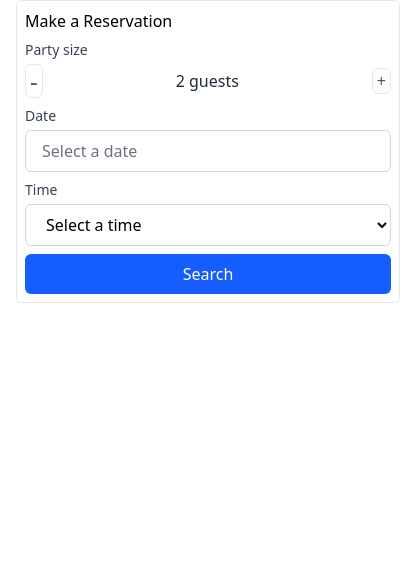
Test: MakeReservation › clears date error when date is selected
The width and height of the screenshot is (417, 565).
# First submit to show error
Click the button "Search" at x=208, y=274, box [25,254,391,294]
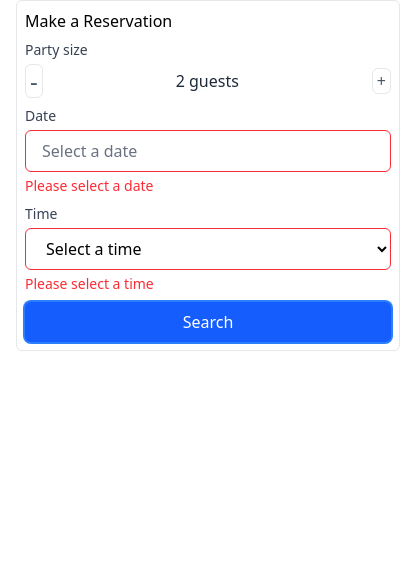
Check: the text "Please select a date" is shown, box [25,176,154,195]
# Select a date
Click the button "Select a date" at x=90, y=151, box [25,130,391,172]
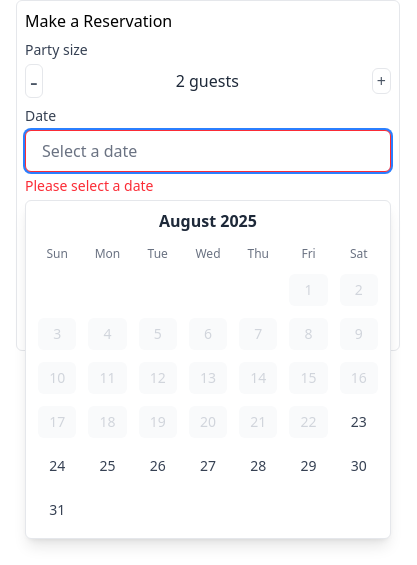
Click the button "23" at x=359, y=422, box [340,406,378,438]
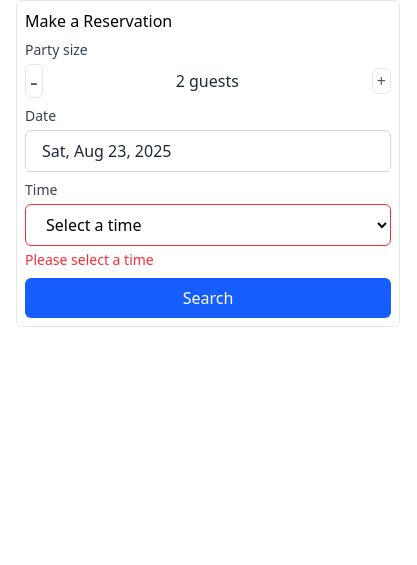
Check: the text "Please select a date" is gone
